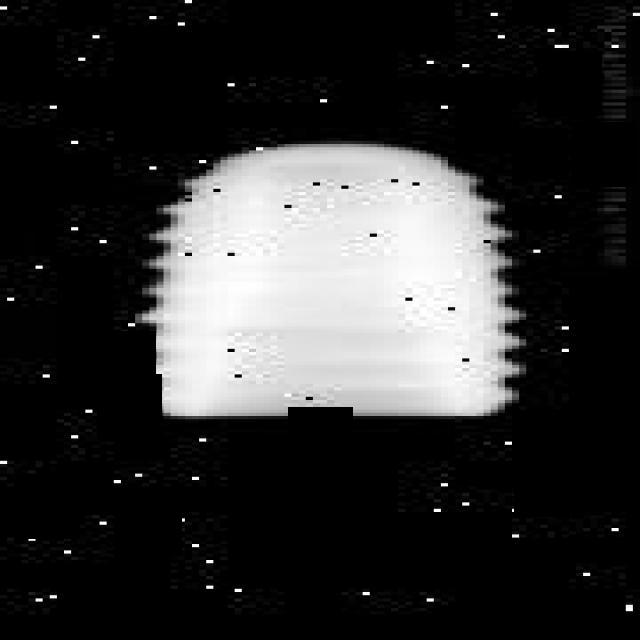Titan Implant Implant: (135, 134, 526, 416)
